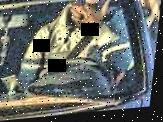seatbelt: (57, 0, 126, 67)
